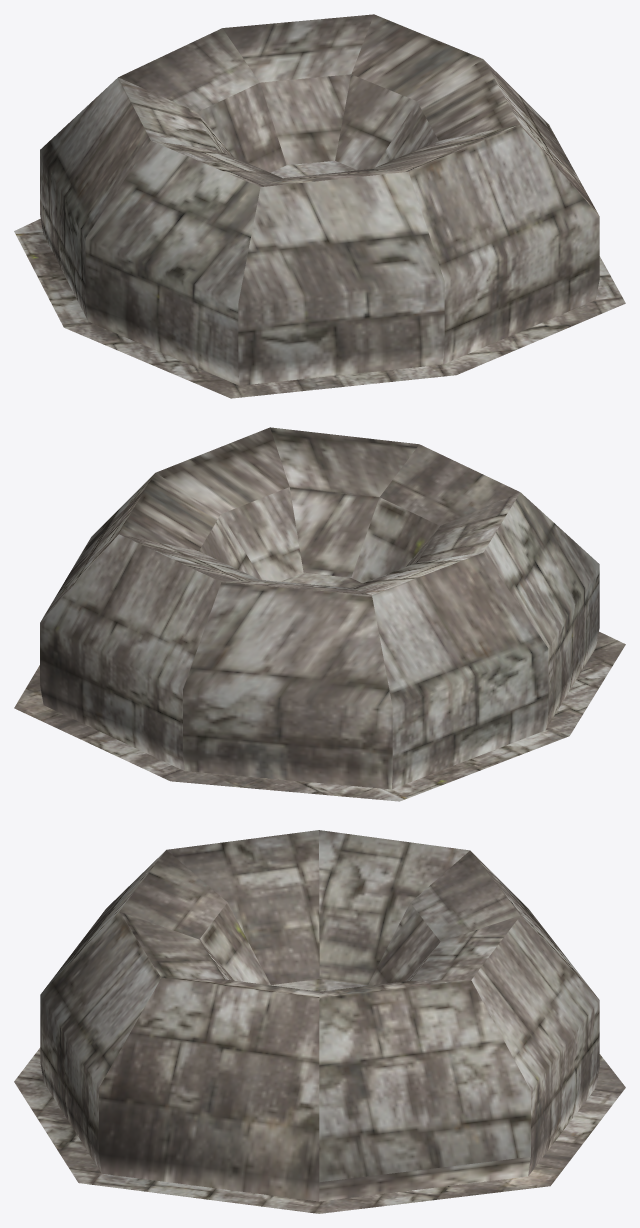
The model's file is ornate_ceiling.glb.
3 renders of one model, top to bottom at view 1: azimuth 30°, elevation 25°; view 2: azimuth 150°, elevation 25°; view 3: azimuth 270°, elevation 25°, orthographic. The views are drawn at different scales.
Visible parts, largest first — view 1: ornate_ceiling; view 2: ornate_ceiling; view 3: ornate_ceiling.
Part boxes in pixels (left/top/right/bottom): ornate_ceiling: left=14, top=14, right=625, bottom=398; ornate_ceiling: left=14, top=427, right=625, bottom=801; ornate_ceiling: left=14, top=830, right=625, bottom=1213.
Size of the model in its own units: 6.71 by 2.12 by 6.76.
1 material, 1 textured.
